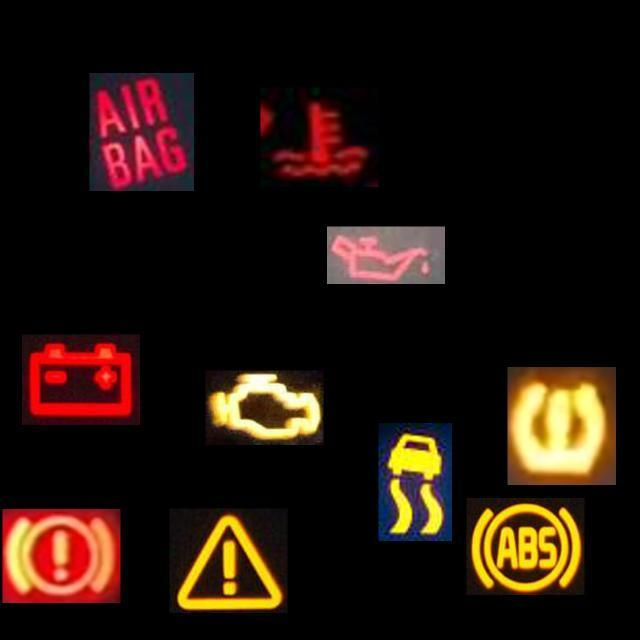Central Warning lamp: (170, 508, 288, 614)
Engine cooling system: (260, 88, 378, 186)
